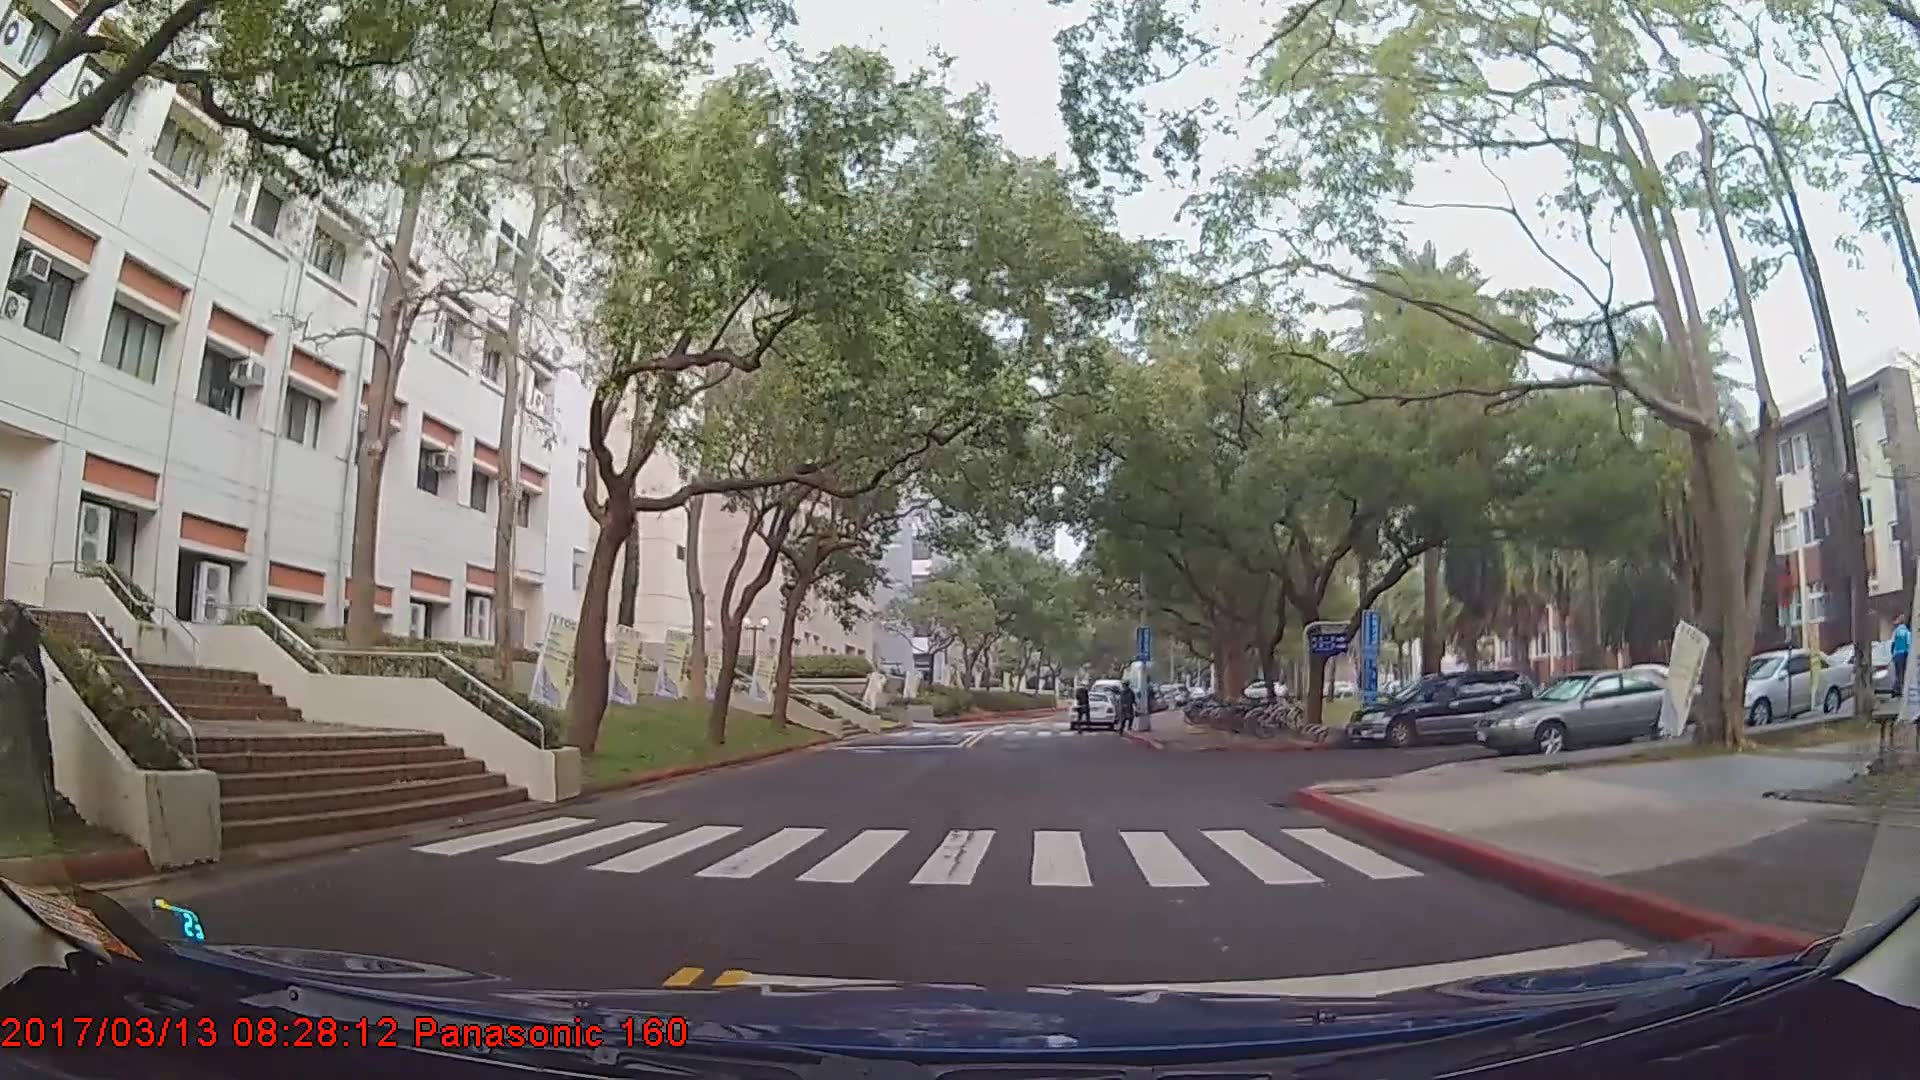pedestrian: (1881, 607, 1908, 702), (1117, 681, 1142, 733), (1076, 684, 1096, 736)
vehicle: (1476, 663, 1701, 758), (1344, 666, 1531, 749), (1718, 647, 1857, 727), (1066, 690, 1117, 731)
